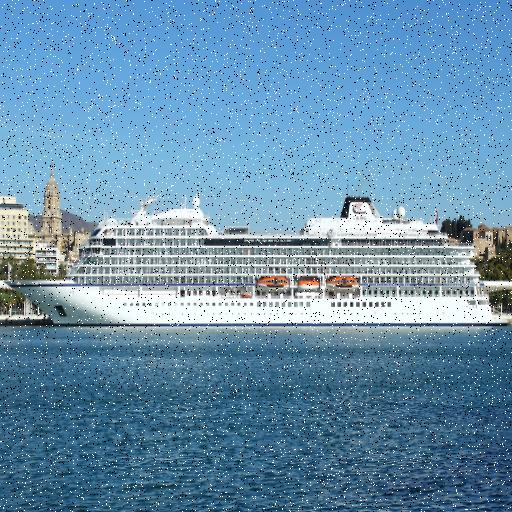cruises: (1, 190, 512, 331)
